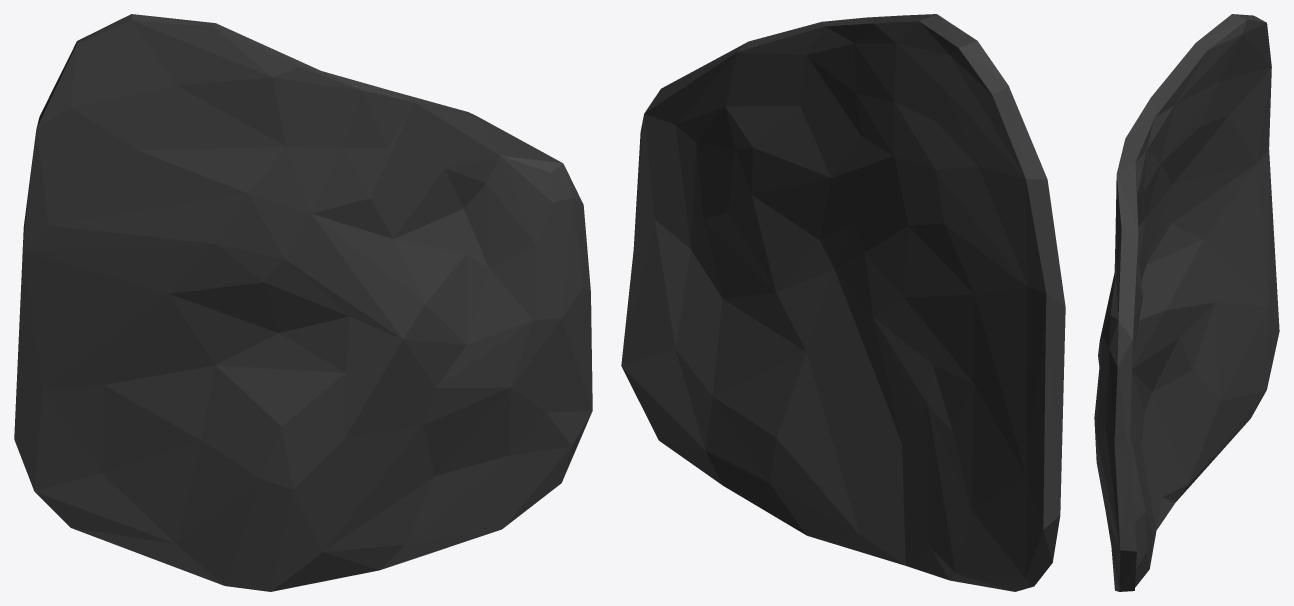
File: Femur_lateral_epicondyle.glb
3 views of the same model, side by side, from view 1: azimuth 30°, elevation 25°; view 2: azimuth 150°, elevation 25°; view 3: azimuth 270°, elevation 25° (orthographic). The views are drawn at different scales.
Visible parts, largest first — view 1: Femur_lateral_epicondyle; view 2: Femur_lateral_epicondyle; view 3: Femur_lateral_epicondyle.
Part boxes in pixels (x1=…): Femur_lateral_epicondyle: x1=14, y1=14, x2=592, y2=591; Femur_lateral_epicondyle: x1=621, y1=14, x2=1065, y2=591; Femur_lateral_epicondyle: x1=1094, y1=14, x2=1279, y2=591.
Bounding box in the file's own units: 0.027 × 0.0291 × 0.0104.
1 material, 1 textured.
